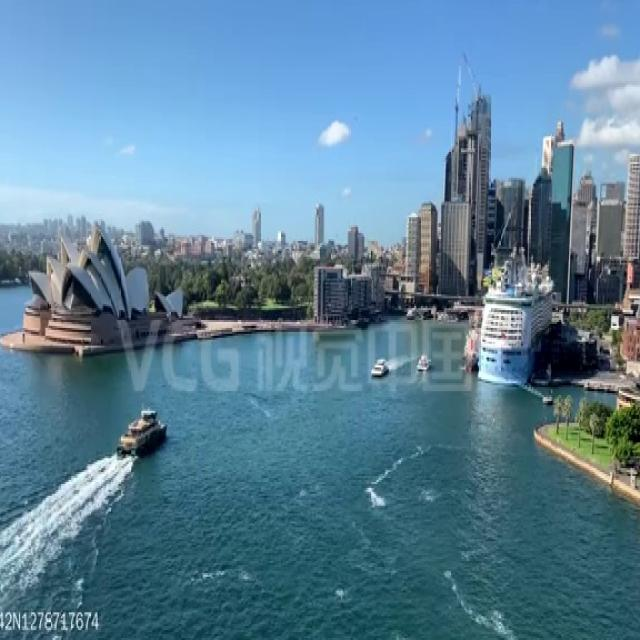houseboat: (115, 402, 168, 458), (369, 348, 390, 388), (412, 349, 434, 377)
passenger ship: (474, 250, 555, 388)
